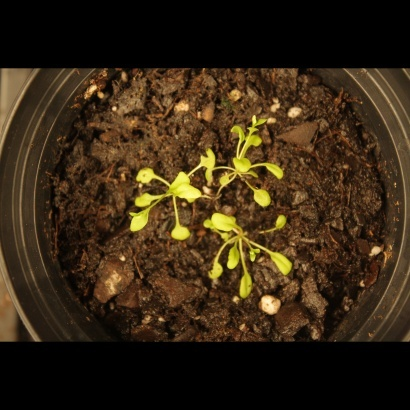leaf: (169, 171, 202, 204), (231, 272, 261, 307), (269, 248, 295, 279), (131, 161, 160, 188), (202, 254, 228, 283), (225, 116, 250, 146), (170, 221, 198, 246), (131, 188, 160, 211), (126, 210, 150, 237), (263, 161, 289, 184), (225, 248, 248, 271), (270, 211, 293, 234), (196, 147, 219, 170), (196, 168, 219, 191), (216, 172, 239, 195), (230, 153, 253, 176), (249, 187, 272, 210), (213, 211, 236, 234), (246, 131, 269, 154), (247, 107, 270, 130)
